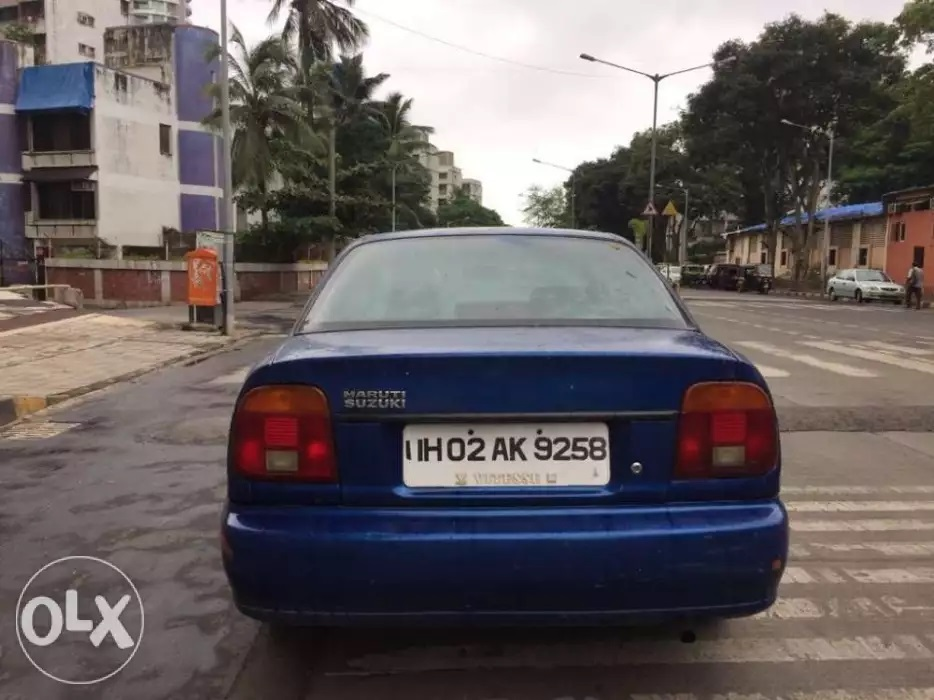licenseplate: (398, 417, 616, 493)
